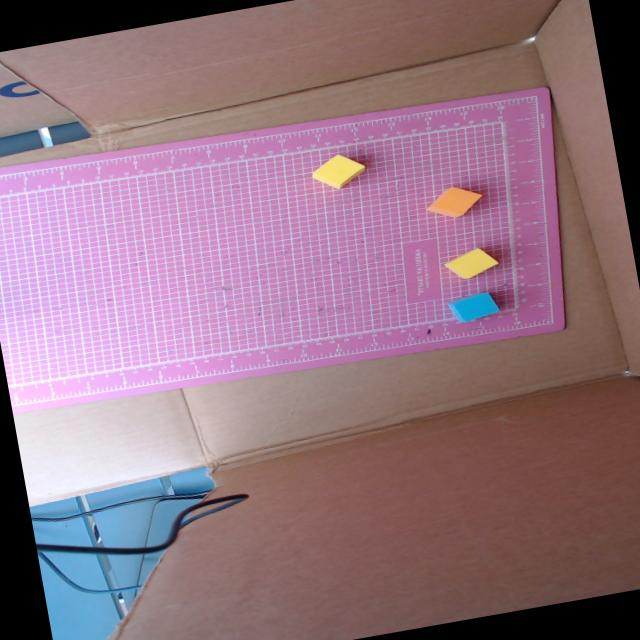bluecube: (446, 292, 499, 322)
orangecube: (425, 187, 481, 217)
yellowcube: (311, 154, 365, 189), (442, 247, 497, 279)
